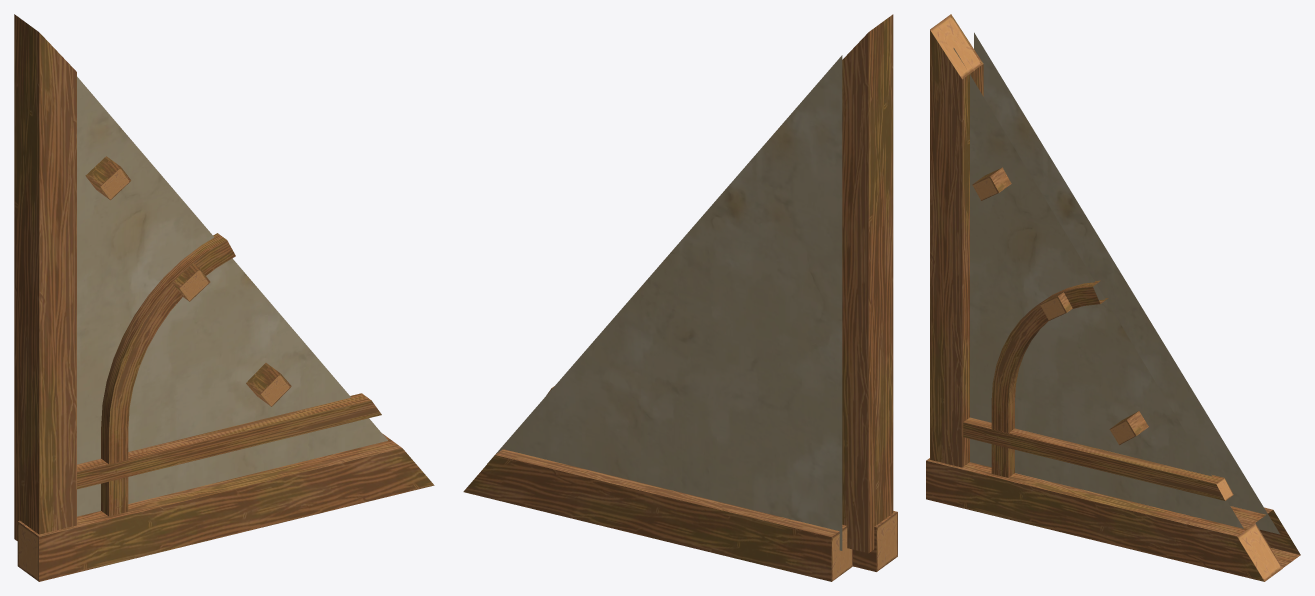
The model's file is Roof_Front_Brick4_Half_R.glb.
3 views of the same model, side by side, from view 1: azimuth 30°, elevation 25°; view 2: azimuth 150°, elevation 25°; view 3: azimuth 330°, elevation 25° (orthographic). The views are drawn at different scales.
Visible parts, largest first — view 1: Roof_Front_Brick4_Half_R; view 2: Roof_Front_Brick4_Half_R; view 3: Roof_Front_Brick4_Half_R.
Part boxes in pixels (left/top/right/bottom): Roof_Front_Brick4_Half_R: left=14, top=14, right=434, bottom=581; Roof_Front_Brick4_Half_R: left=463, top=14, right=897, bottom=581; Roof_Front_Brick4_Half_R: left=926, top=14, right=1300, bottom=581.
Size of the model in its own units: 2.42 by 3.2 by 0.4894.
2 materials, 2 textured.
